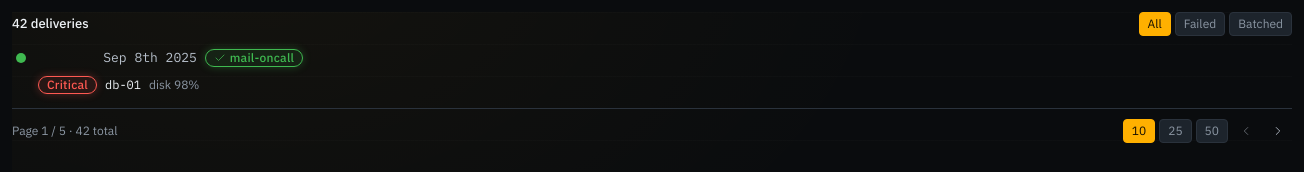
it: DeliveryTimeline › pages with 10 / 25 / 50 size chips once the list overflows
Expected: the text "Page 1 / 5 · 42 total" is shown, x1=12 y1=122 x2=118 y2=140
Click the button named "25 per page" at {"x": 1175, "y": 131}, box x1=1159 y1=119 x2=1192 y2=143
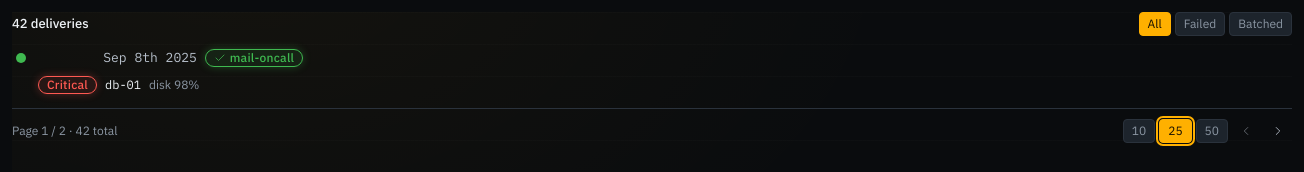
Now the text "Page 1 / 2 · 42 total" is shown, box x1=12 y1=122 x2=118 y2=140
